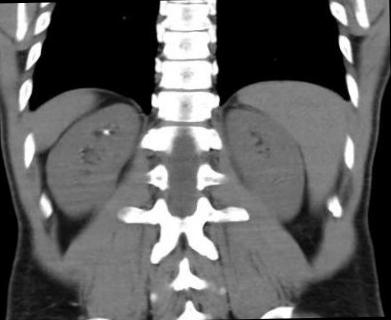Tas_Var: (103, 130, 108, 134)
